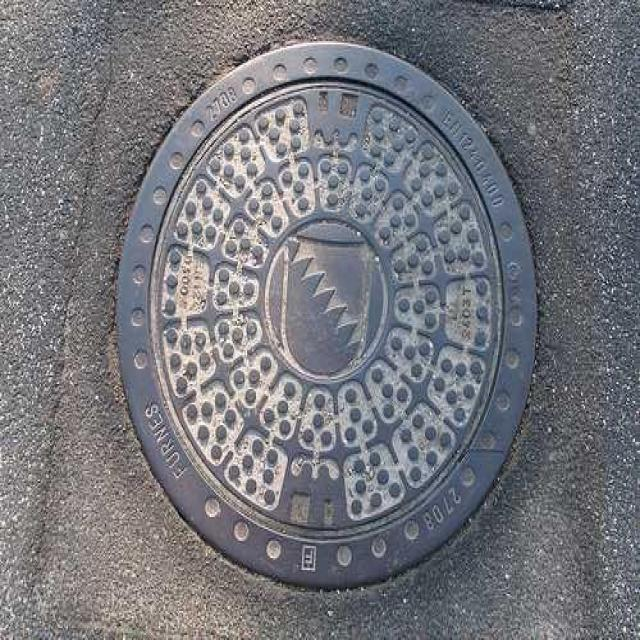manhole: (118, 43, 535, 587)
